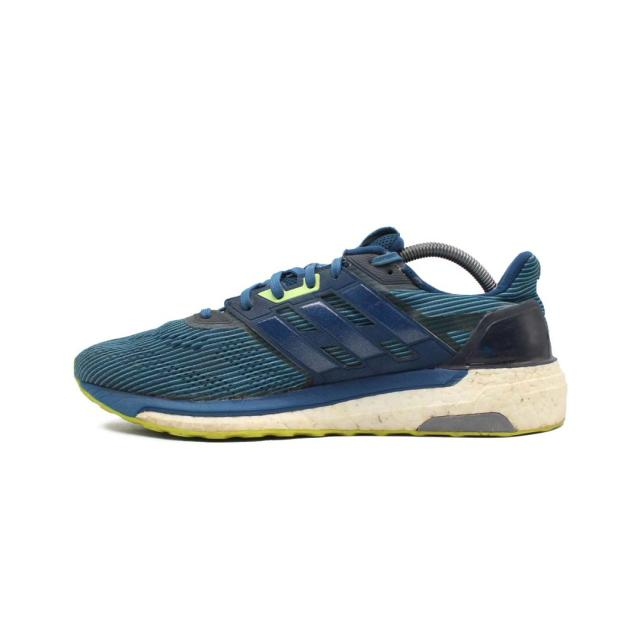heel: (499, 232, 557, 364)
midsole: (85, 364, 569, 439)
uppersole: (81, 222, 497, 394)
